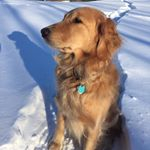puppy: (36, 4, 133, 150)
